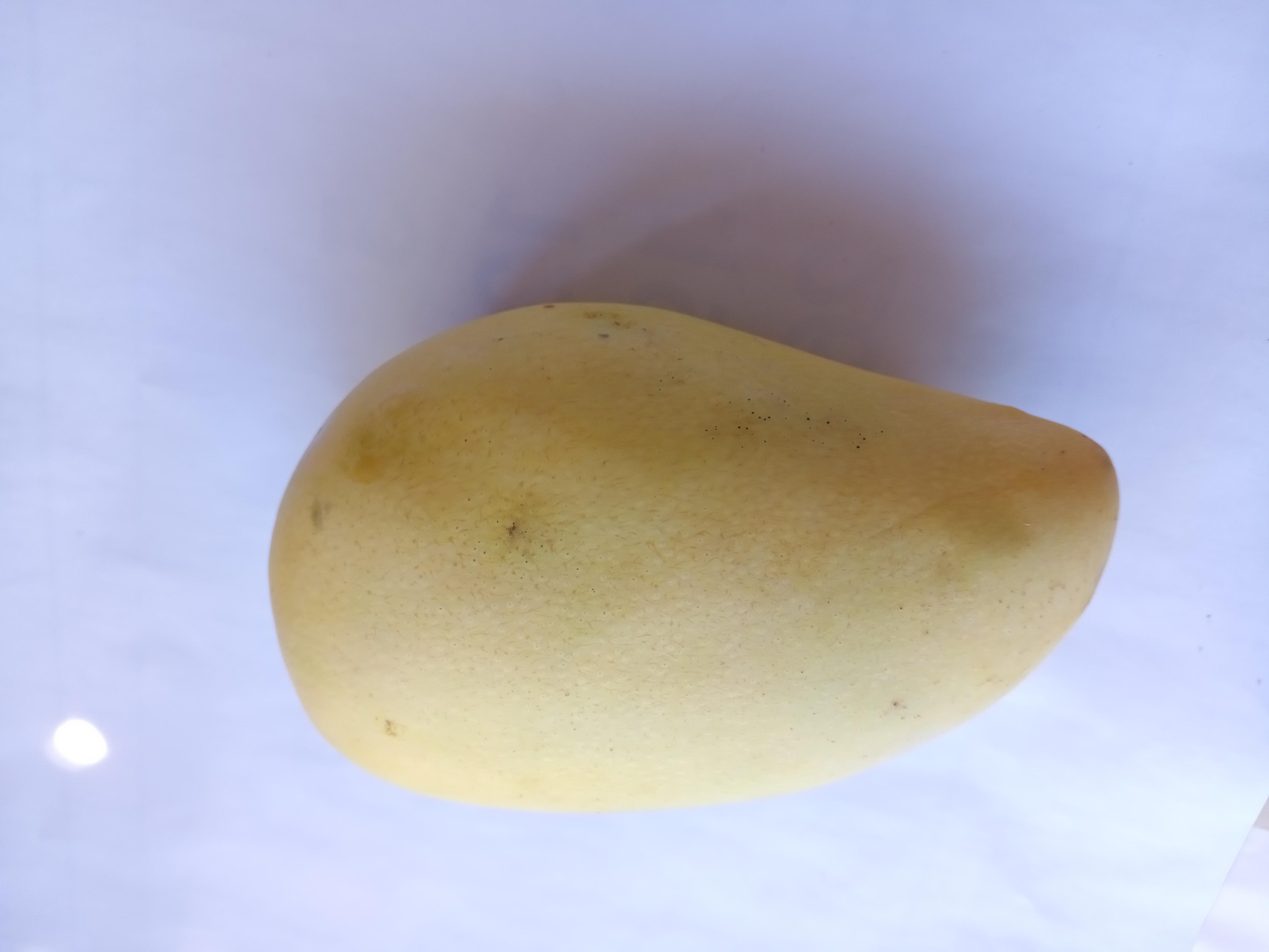Mango Ripe: (231, 264, 1159, 856)
